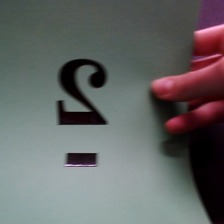green2: (50, 54, 113, 175)
